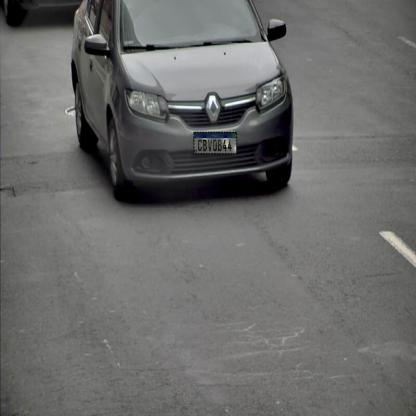PlacaM: (194, 132, 237, 154)
